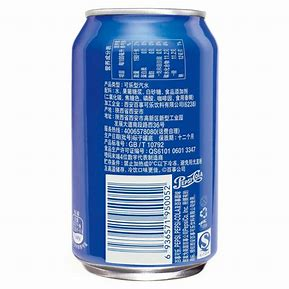Pepsi: (69, 6, 220, 283)
